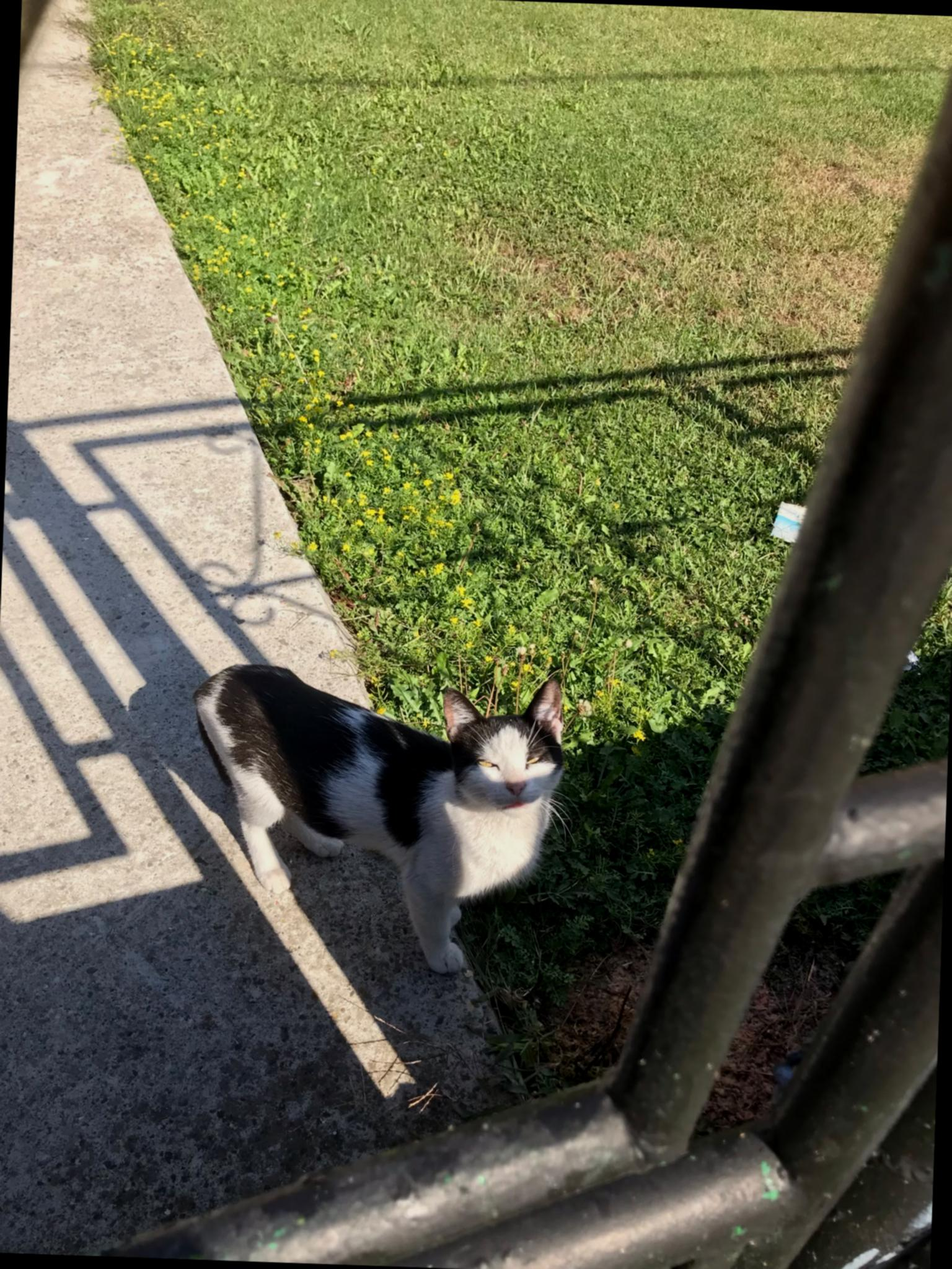macka: (181, 661, 569, 976)
